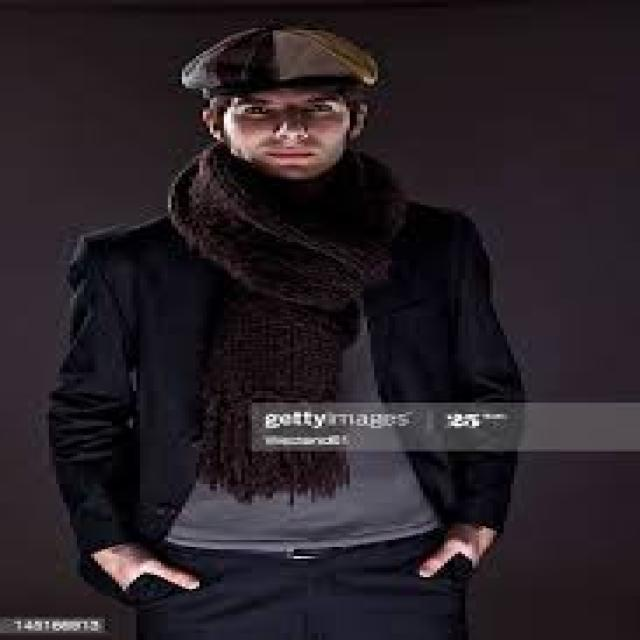cap: (175, 23, 395, 182)
